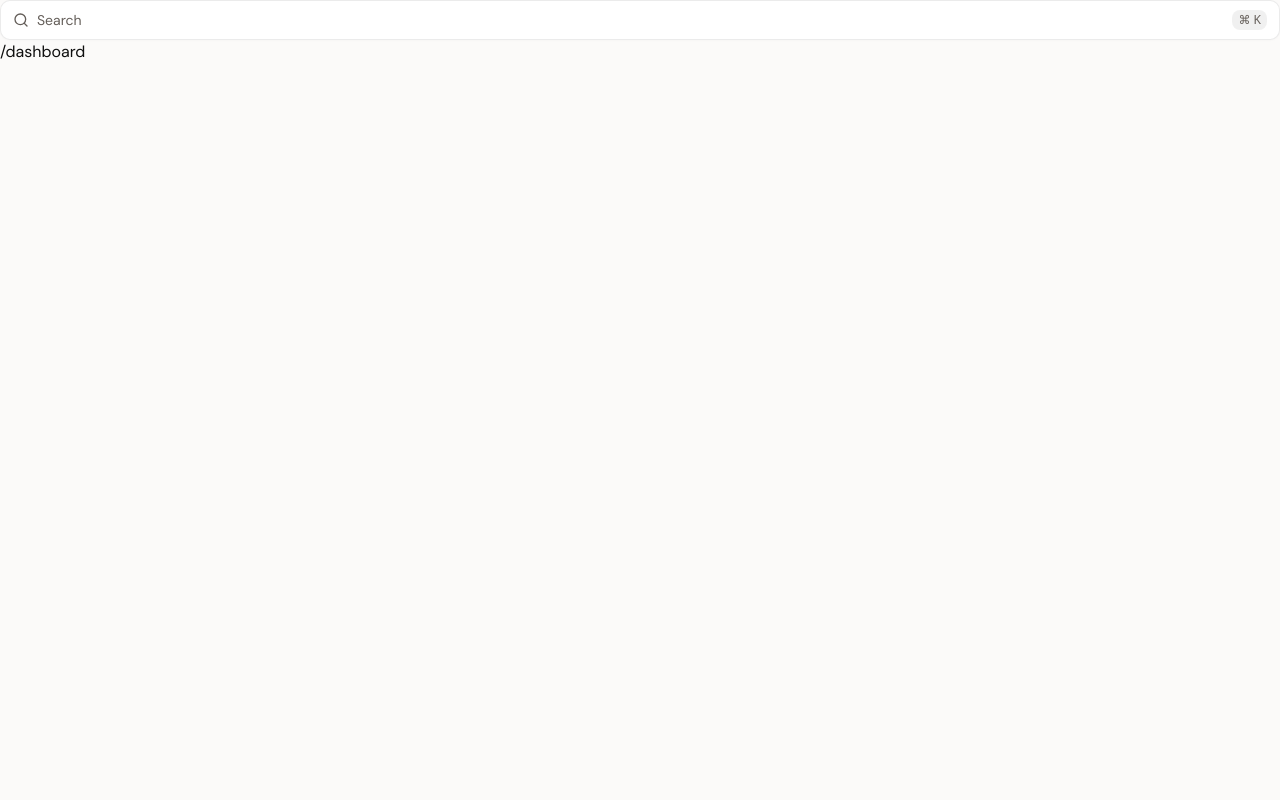
Test case: WorkspaceSearch › opens from the visible search control and navigates to an authorized destination
Click the button "Search ⌘ K": point(59, 20) [0,0,1279,40]
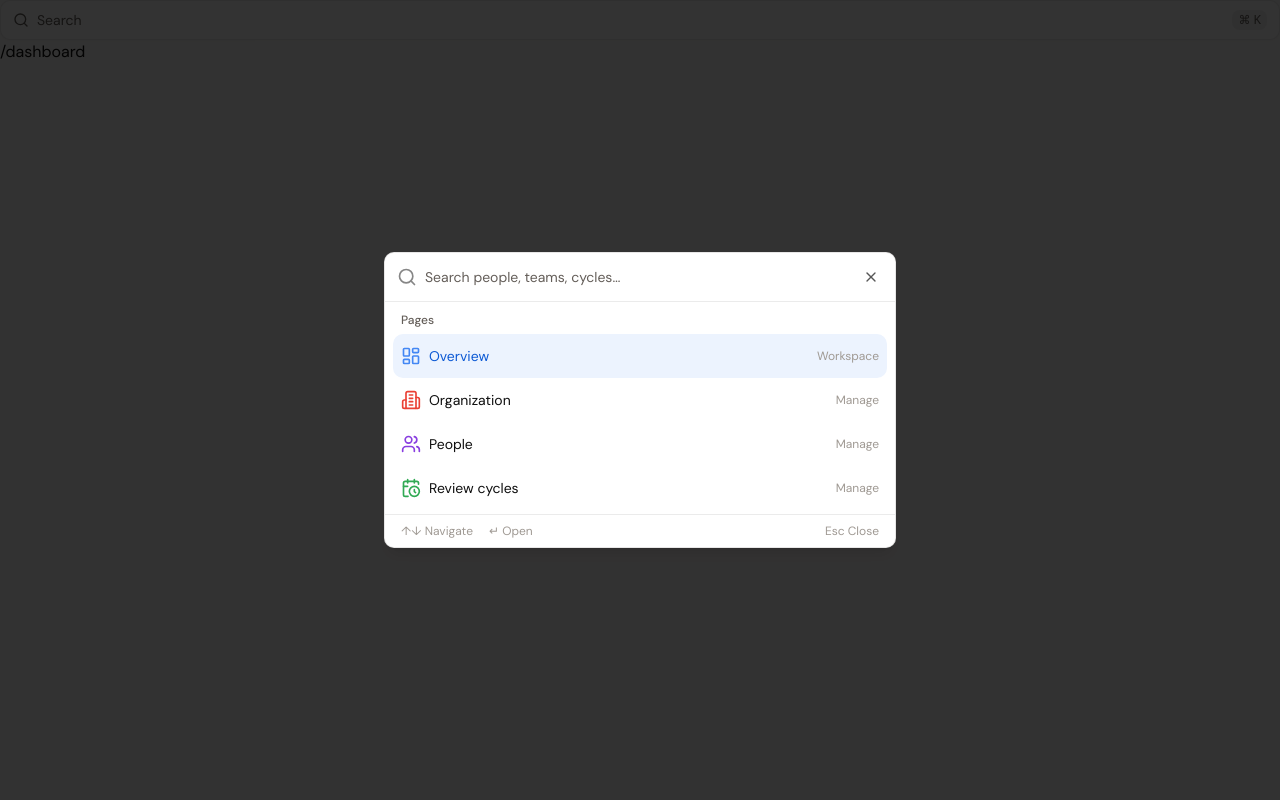
Now the dialog is shown, box [384,252,896,548]
Click the text "People": point(451, 444) [429,434,473,454]
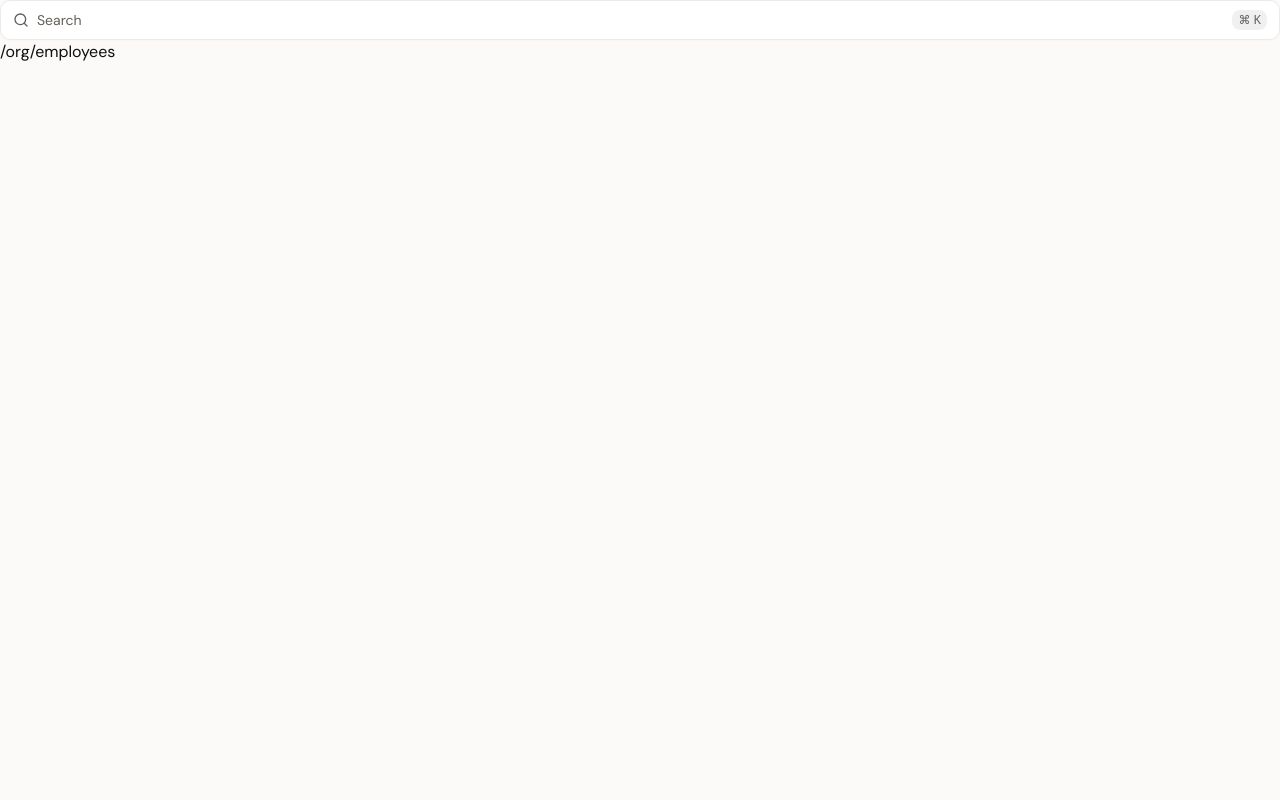
Now the text named "Current path" reads "/org/employees", box [0,41,115,62]
